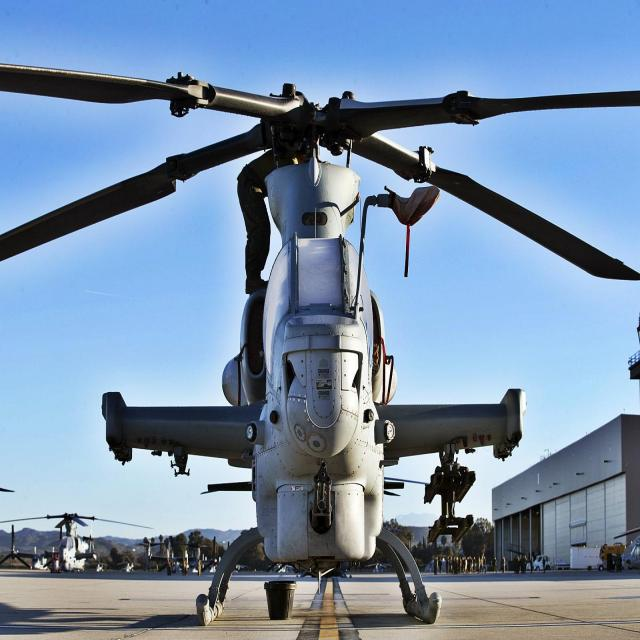MIL_HELO: (1, 51, 640, 623)
